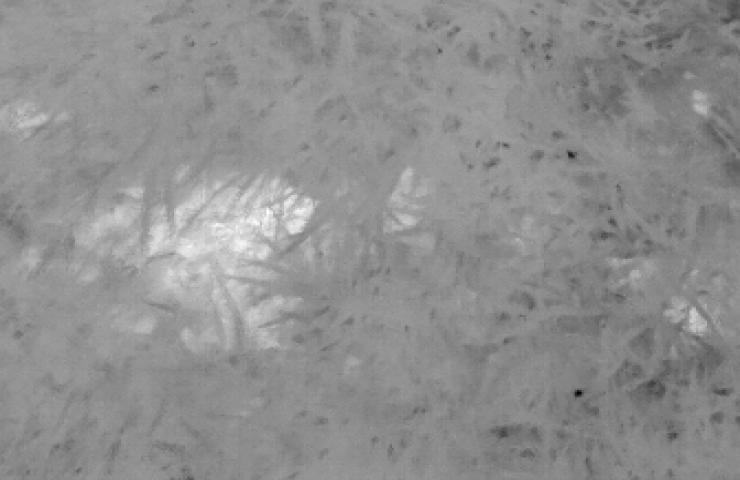landmines: (76, 161, 324, 352)
